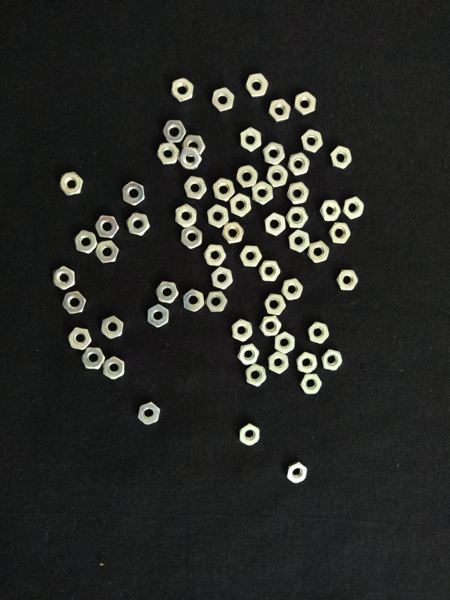nut: (209, 86, 236, 112), (243, 72, 270, 98), (94, 212, 120, 239), (265, 98, 293, 123), (125, 212, 151, 238), (72, 229, 98, 255), (60, 290, 87, 315), (57, 171, 85, 195), (169, 78, 195, 103), (292, 92, 318, 117), (51, 265, 77, 290), (154, 280, 180, 305), (67, 326, 93, 351), (136, 402, 162, 427), (121, 181, 146, 206), (205, 204, 230, 229), (228, 193, 253, 218), (161, 120, 187, 144), (239, 127, 263, 153), (182, 176, 208, 200), (301, 129, 325, 155), (287, 151, 311, 177), (235, 163, 259, 189), (212, 177, 236, 203), (94, 240, 120, 264), (173, 204, 199, 228), (202, 242, 228, 266), (146, 303, 170, 329), (155, 142, 180, 166), (286, 181, 310, 206), (100, 314, 124, 339), (182, 287, 205, 313), (251, 181, 275, 205), (287, 229, 311, 253), (102, 356, 126, 380), (244, 363, 268, 387), (330, 145, 353, 170), (273, 330, 296, 355), (80, 348, 106, 370), (266, 164, 289, 188), (264, 213, 287, 237), (285, 206, 309, 229), (319, 199, 342, 223), (328, 222, 352, 245), (307, 240, 330, 264), (280, 278, 304, 301), (307, 321, 331, 344), (211, 266, 234, 290), (205, 290, 229, 313), (177, 147, 202, 169), (238, 245, 263, 267), (231, 318, 253, 343), (299, 373, 324, 395), (222, 221, 245, 244), (286, 462, 309, 485), (182, 134, 206, 156), (262, 143, 286, 165), (179, 227, 203, 249), (343, 196, 365, 220), (263, 293, 287, 315), (236, 344, 260, 366), (239, 423, 260, 448), (336, 268, 359, 290), (259, 260, 282, 282), (268, 351, 290, 374), (320, 349, 343, 371), (259, 316, 283, 337), (296, 352, 318, 374)
